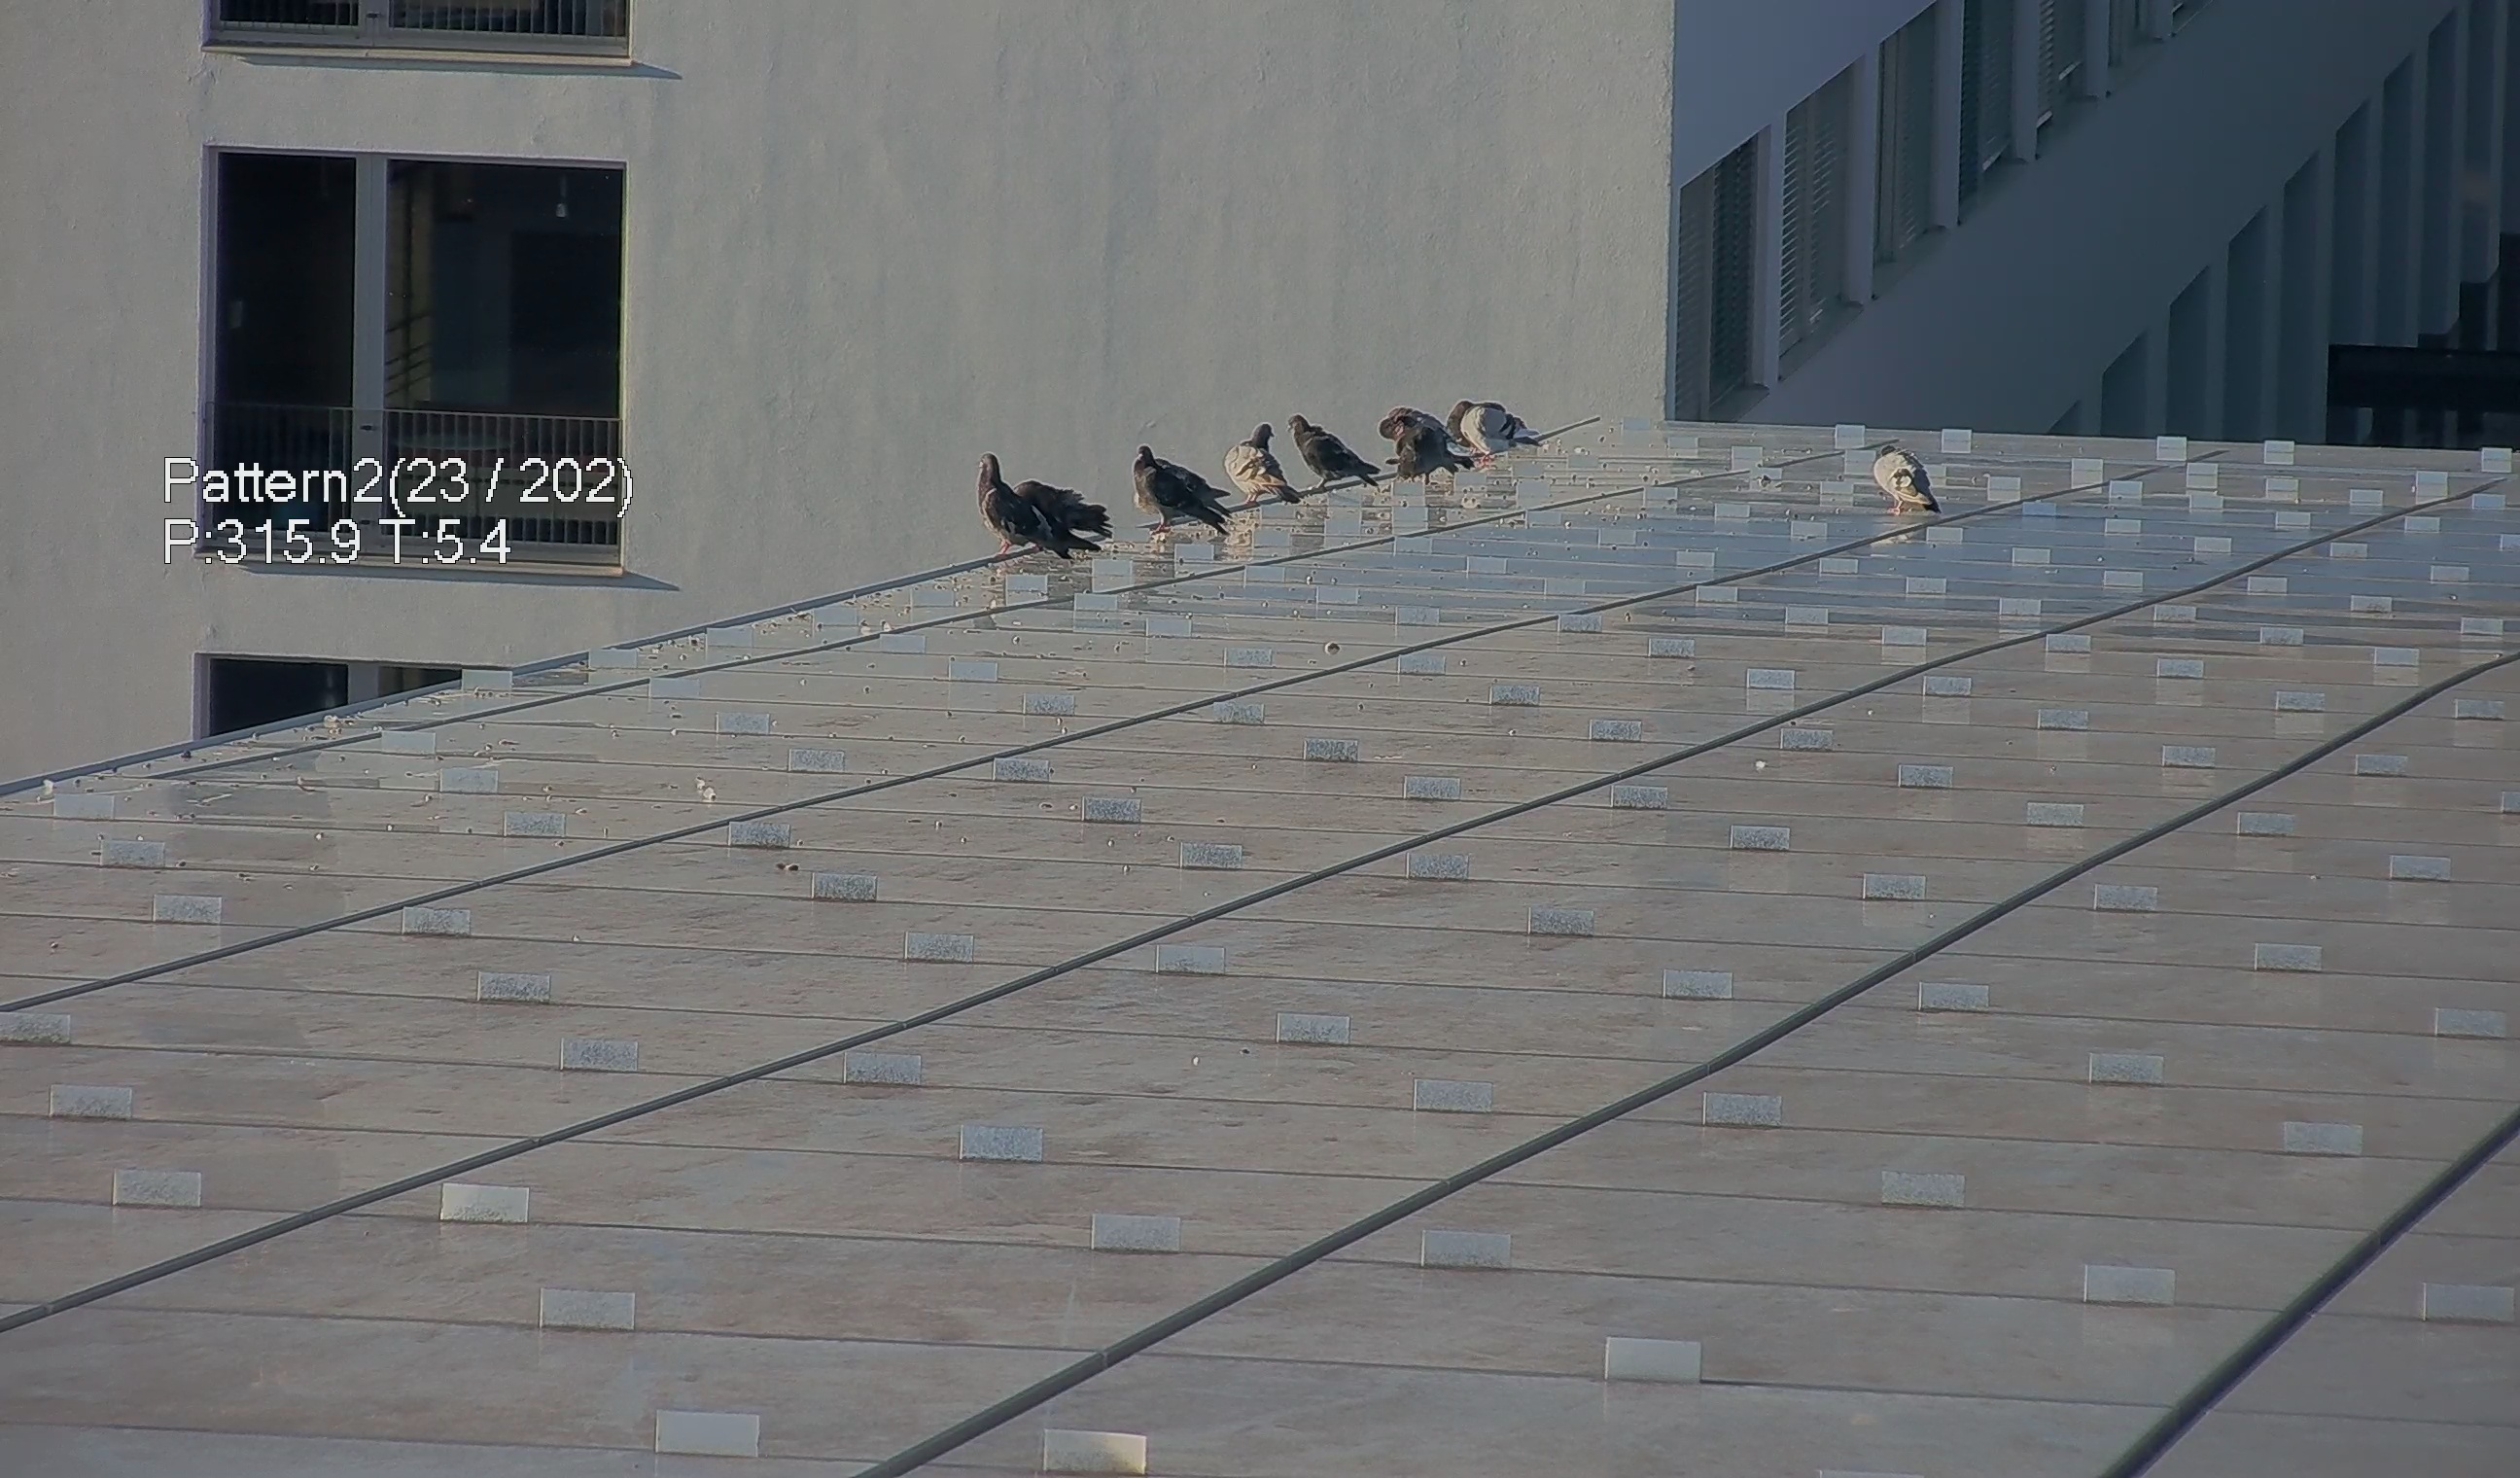Pigeon: (960, 436, 1106, 570), (1124, 428, 1243, 547), (1273, 401, 1384, 496), (1446, 389, 1551, 465), (1375, 401, 1474, 482), (1873, 429, 1959, 521), (1220, 412, 1293, 512)
